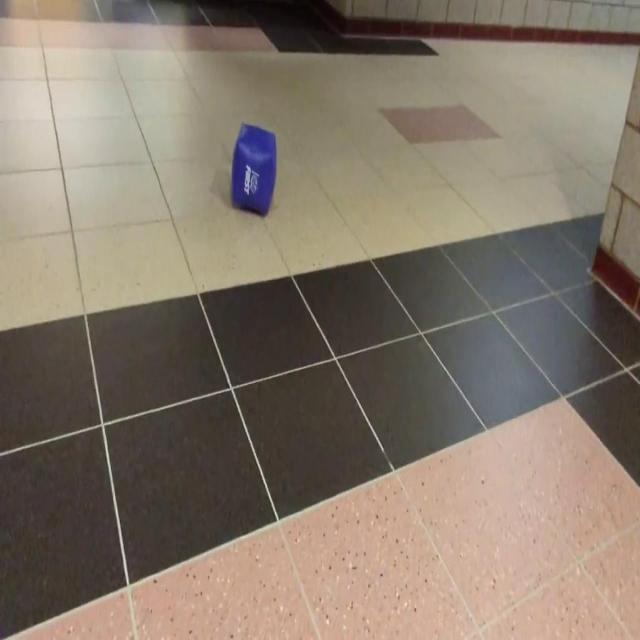frc_cube: (230, 124, 276, 216)
